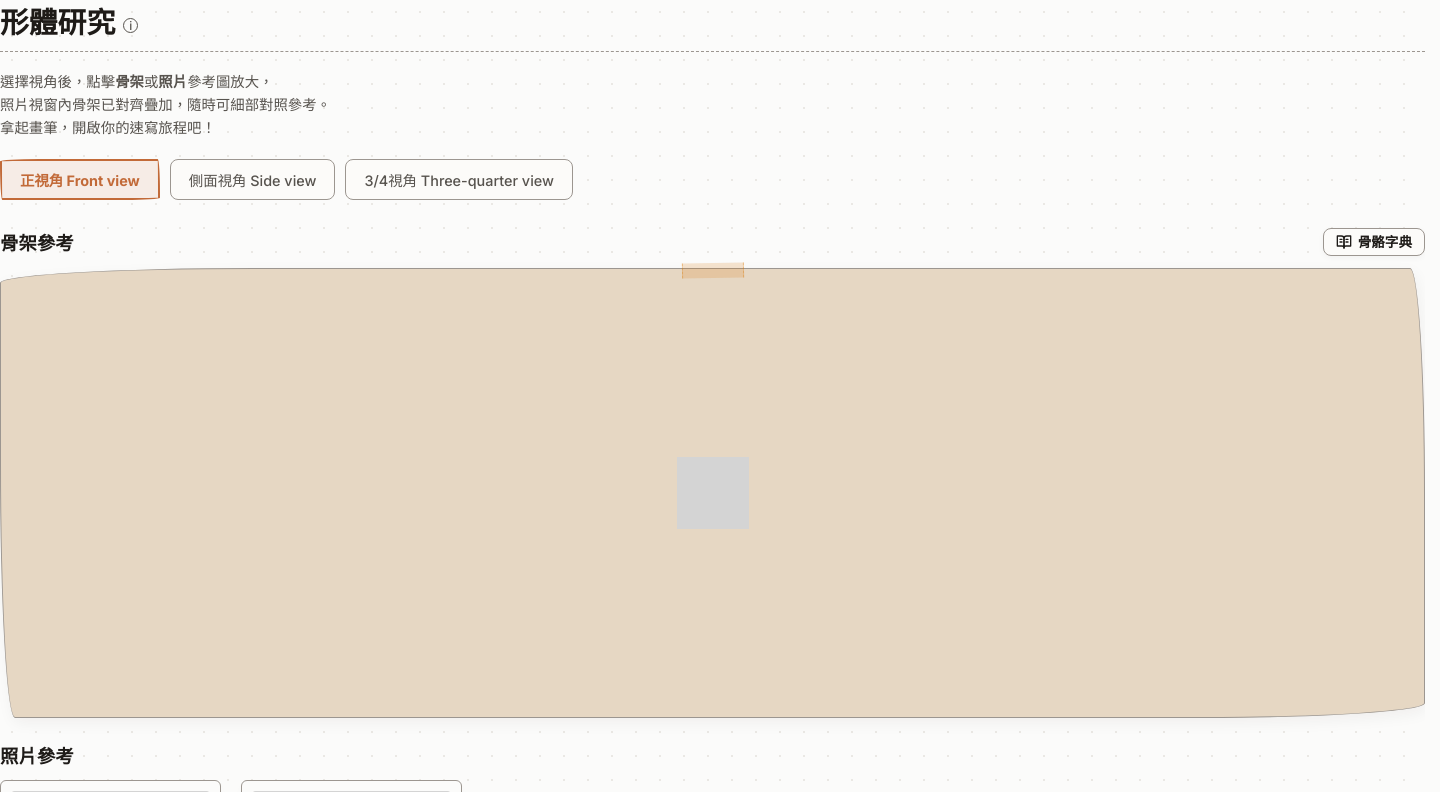
Test case: ReferenceStudio – SkeletonPanel contrast invert toggle › toggles compact skeleton dictionary strip and searches
Click to open compact strip
Click the button "骨骼字典". click: [1374, 242]
box: [1323,228,1425,256]
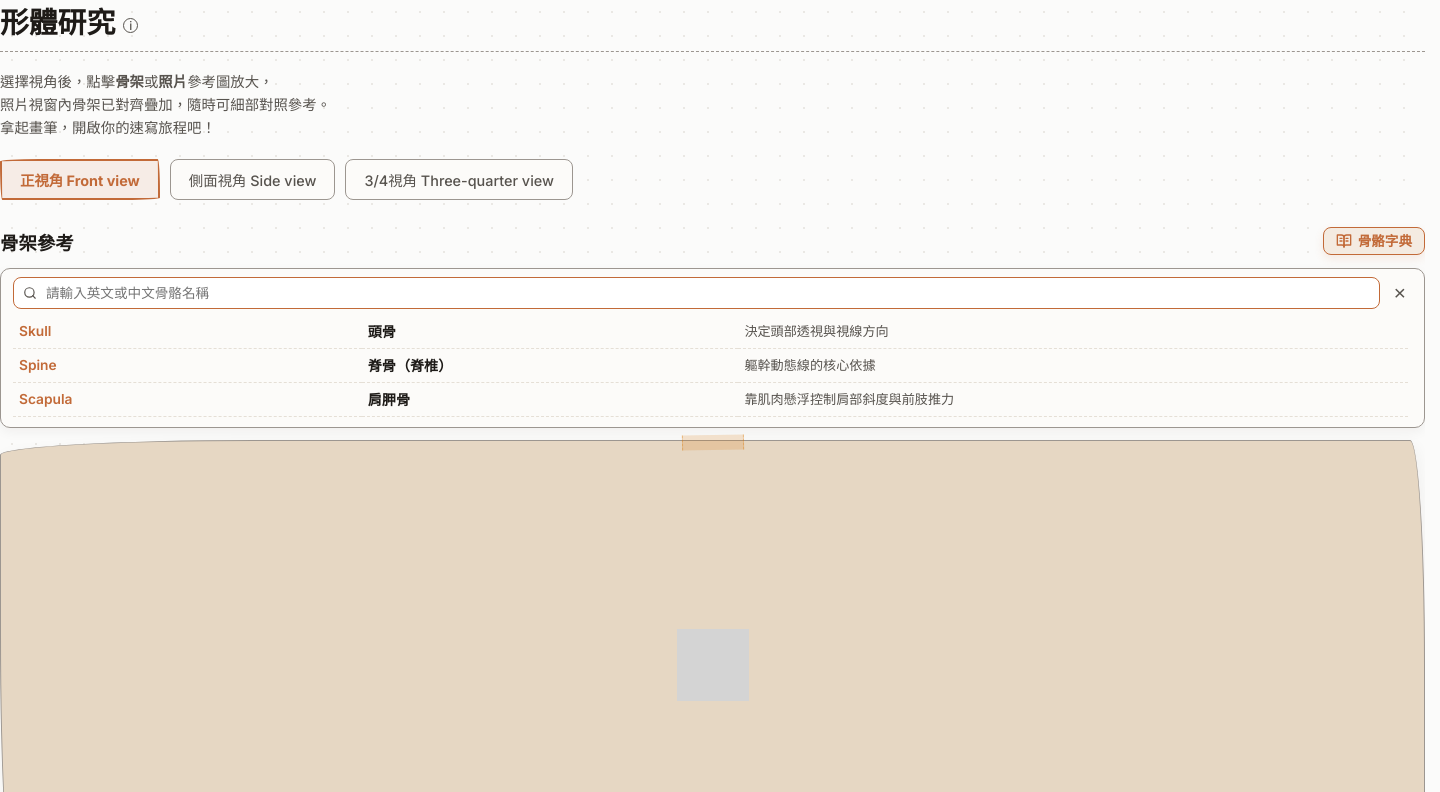
Expected: the element with test id "skeleton-compact-dict-strip" is shown, [0,268,1425,428]
Expected: the text "脊骨（脊椎）" is shown, [362,349,738,383]
Search query
Type "頭骨" into the field with placeholder "請輸入英文或中文骨骼名稱". click: [696, 293]
box: [13,277,1380,309]
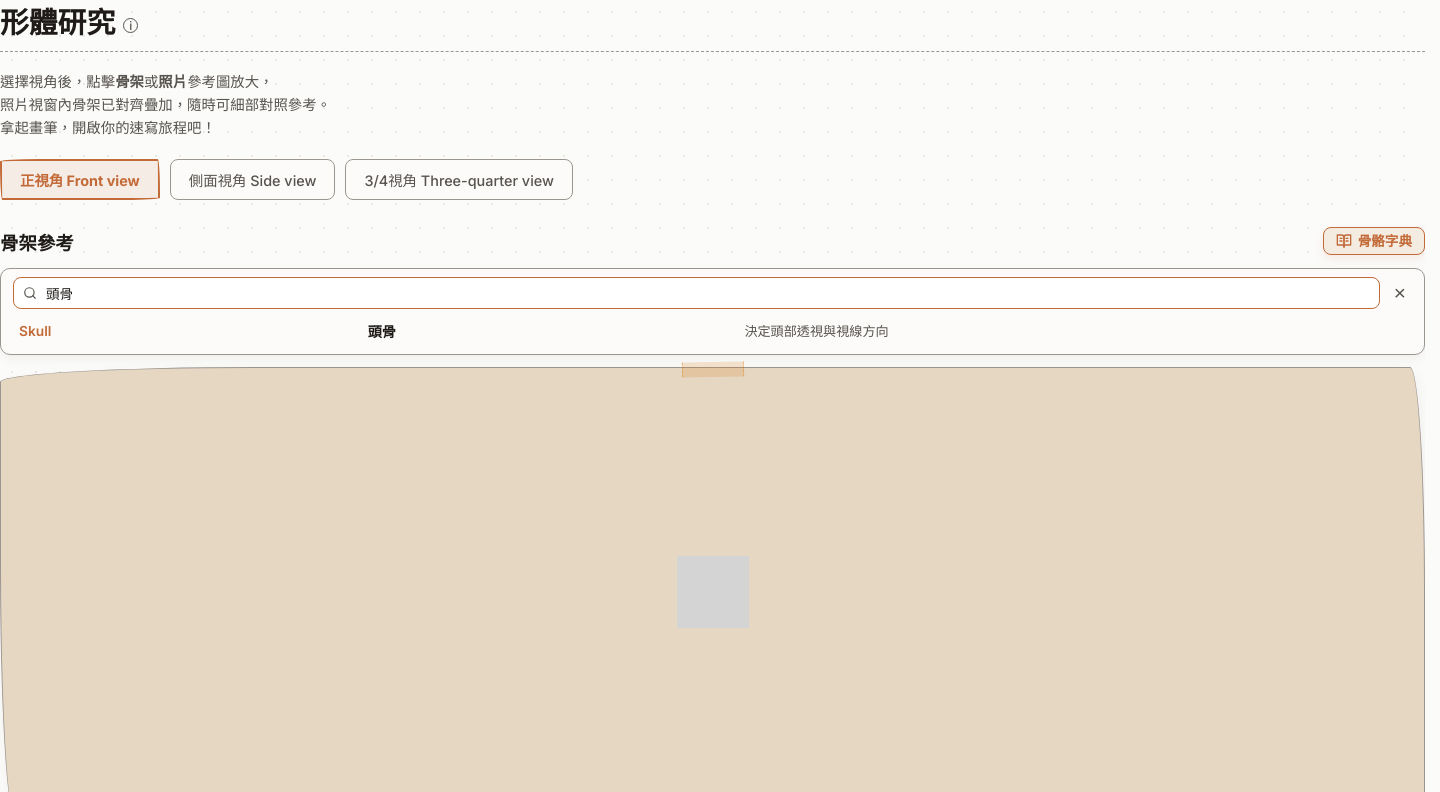
Expected: the text "Skull" is shown, [13,315,362,348]
Expected: the text "頭骨" is shown, [362,315,738,348]
Expected: the text "脊骨（脊椎）" is gone
Close strip
Click the button named "關閉". click: [1400, 293]
box: [1388,281,1412,306]
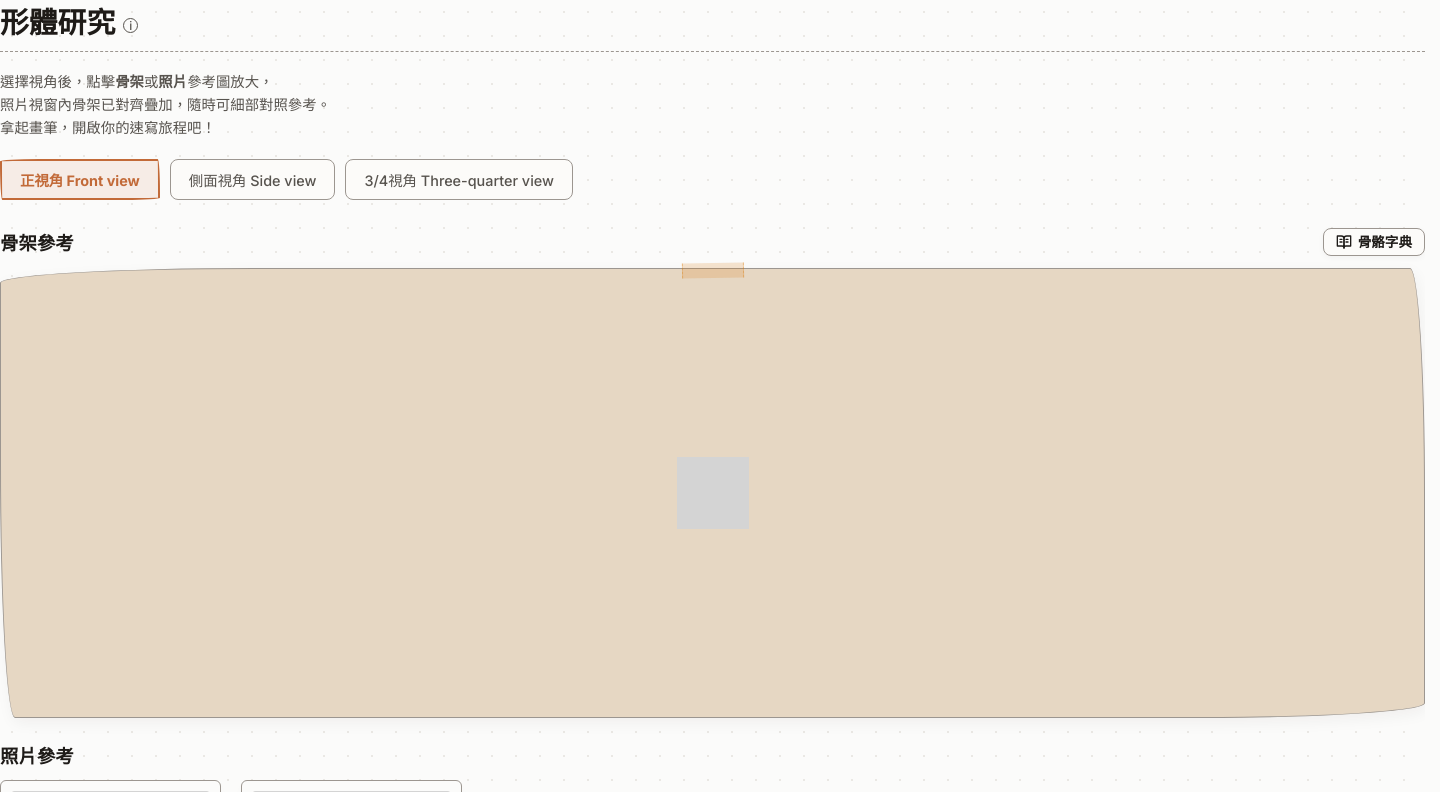
Expected: the element with test id "skeleton-compact-dict-strip" is gone
